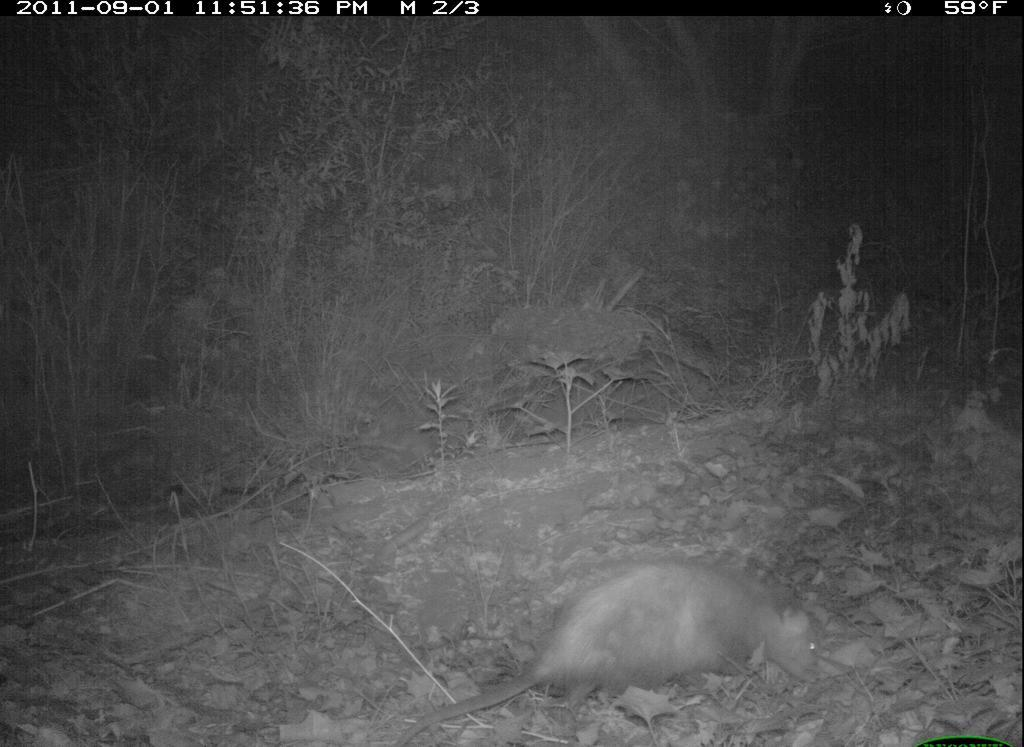opossum: (395, 553, 824, 747)
